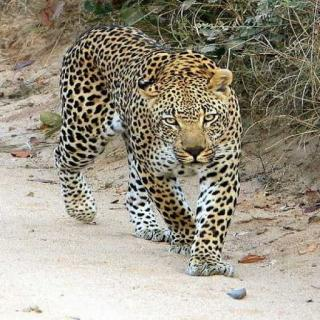Leopard: (44, 11, 256, 274)
